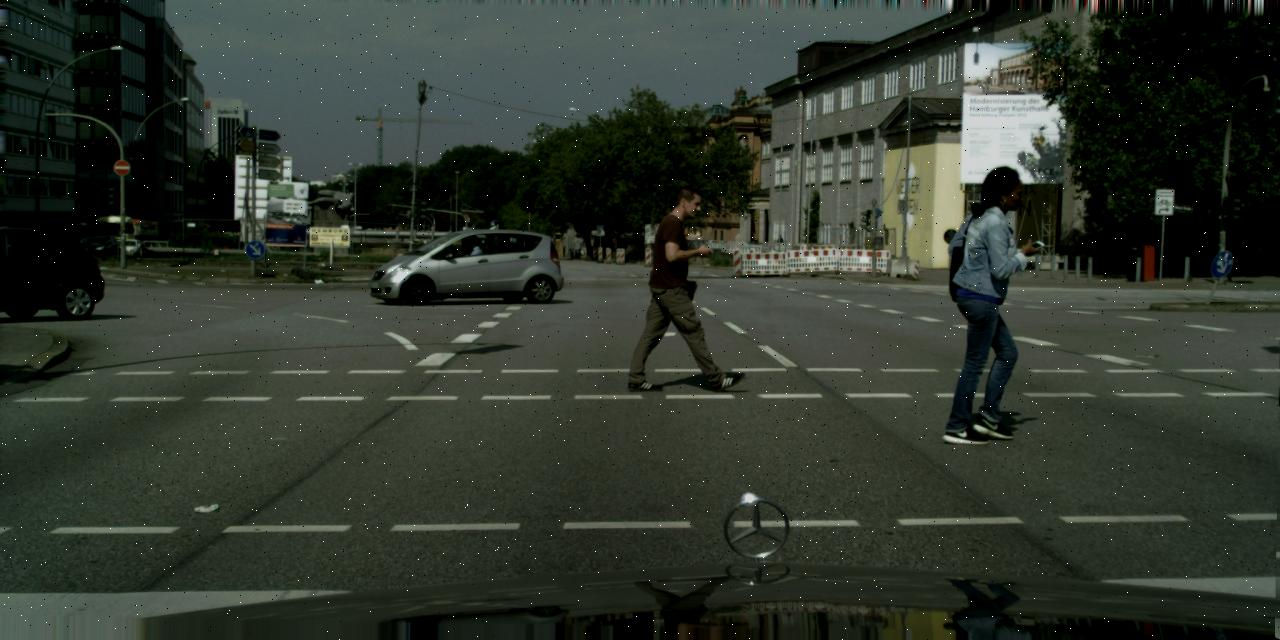ped: (941, 164, 1053, 440), (644, 187, 728, 389), (774, 234, 783, 259)
